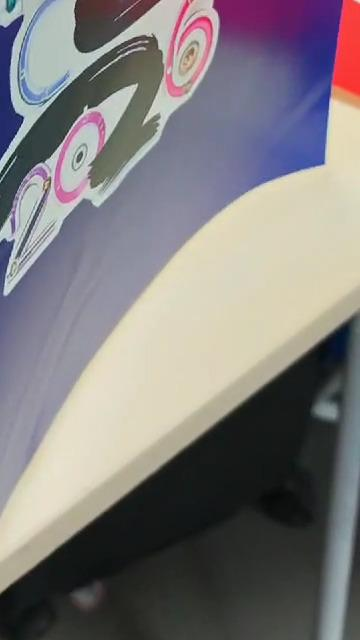B_R1: (0, 0, 354, 527)
